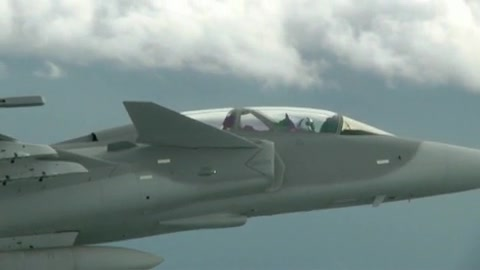aeroplane: (1, 95, 480, 270)
